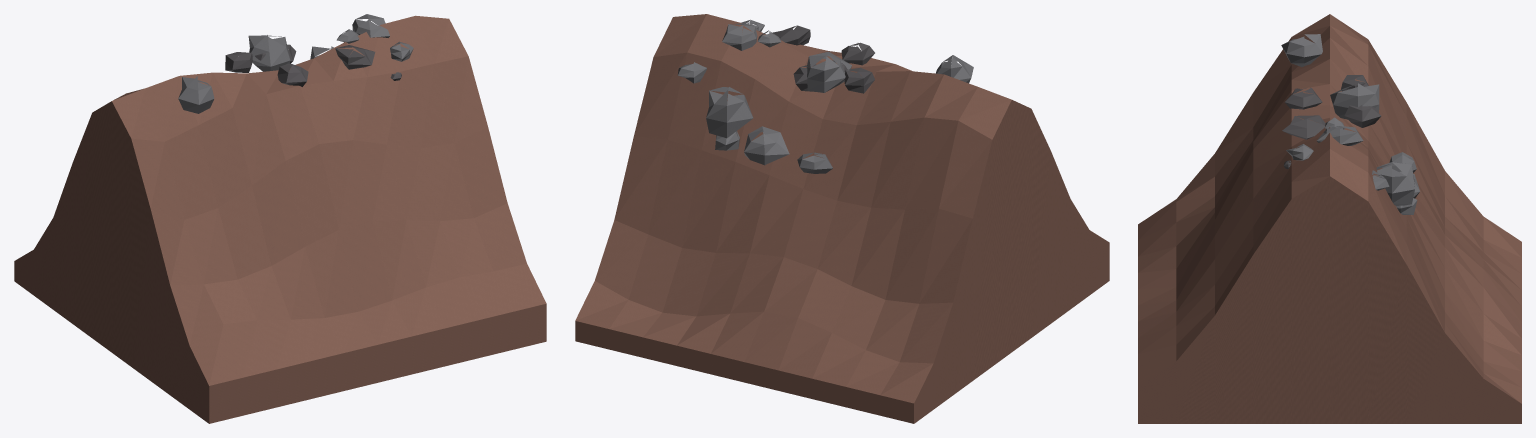
File: crater.glb
The picture shows the model from 3 angles, left to right: view 1: azimuth 30°, elevation 25°; view 2: azimuth 150°, elevation 25°; view 3: azimuth 270°, elevation 25°; orthographic projection.
Parts seen in each view (by area): view 1: volcano-and-lava-fields-crater-rim-section; view 2: volcano-and-lava-fields-crater-rim-section; view 3: volcano-and-lava-fields-crater-rim-section.
Part boxes in pixels (x1=…): volcano-and-lava-fields-crater-rim-section: x1=14, y1=14, x2=546, y2=423; volcano-and-lava-fields-crater-rim-section: x1=575, y1=14, x2=1109, y2=423; volcano-and-lava-fields-crater-rim-section: x1=1138, y1=14, x2=1521, y2=423.
Size of the model in its own units: 4 by 3.04 by 4.
Materials: 3 (2 with a texture image).
